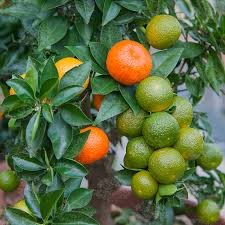orange: (108, 39, 153, 86), (64, 126, 112, 163), (143, 113, 182, 149), (143, 12, 181, 48), (136, 77, 174, 111), (148, 151, 185, 183), (175, 125, 205, 161), (120, 138, 153, 167), (115, 106, 144, 138), (167, 95, 194, 126), (128, 172, 160, 198)
